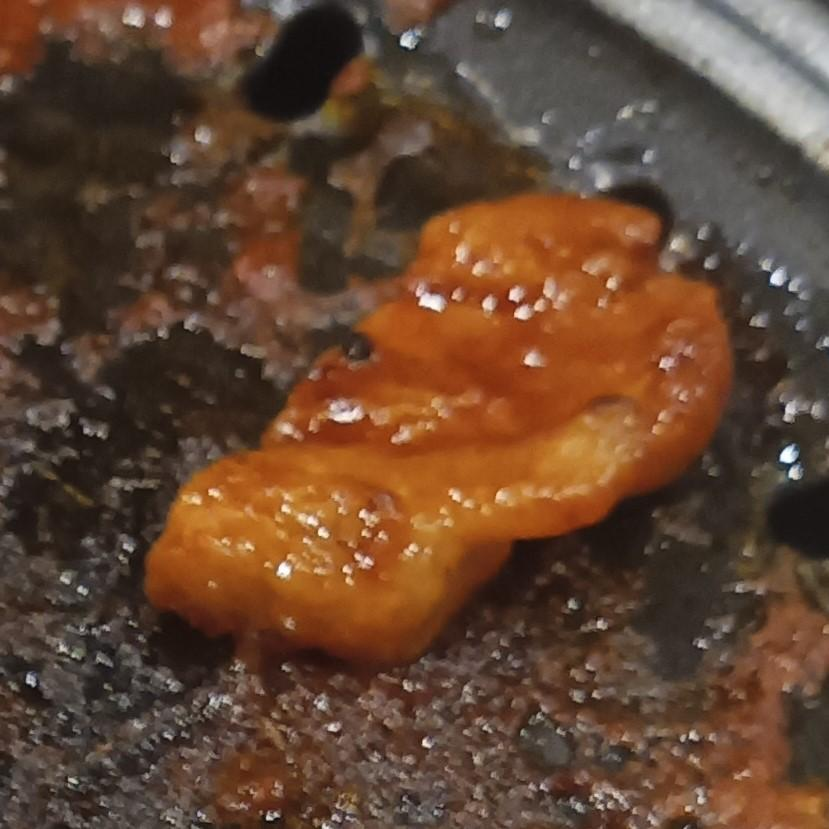Well-Cooked: (143, 191, 735, 673)
